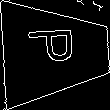P_E: (28, 32, 84, 72)
